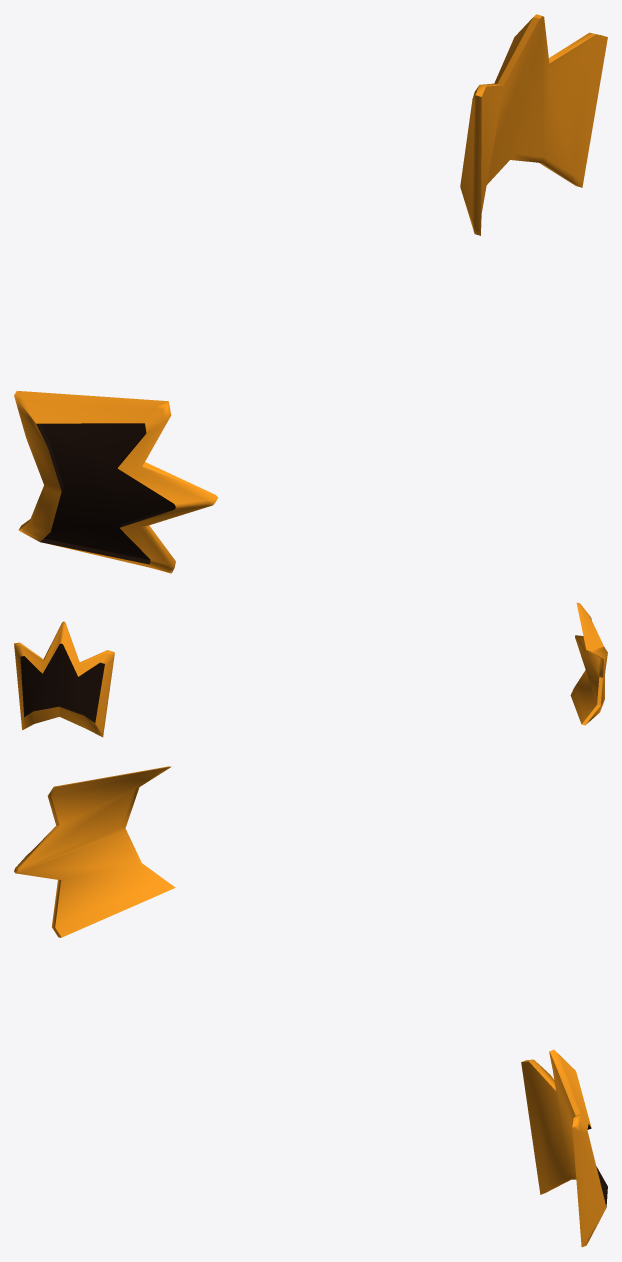
The picture shows the model from 3 angles, top to bottom: view 1: azimuth 30°, elevation 25°; view 2: azimuth 150°, elevation 25°; view 3: azimuth 270°, elevation 25°; orthographic projection. The views are drawn at different scales.
Visible parts, largest first — view 1: hand_decor_003.002, hand_decor_002.003; view 2: hand_decor_002.003, hand_decor_003.002; view 3: hand_decor_003.002, hand_decor_002.003.
Boxes of the visible parts, box(x1,y1,x2,y2) form: hand_decor_003.002: box(14, 391, 217, 573); hand_decor_002.003: box(460, 14, 607, 235); hand_decor_002.003: box(14, 621, 114, 737); hand_decor_003.002: box(570, 602, 607, 725); hand_decor_003.002: box(14, 766, 175, 937); hand_decor_002.003: box(521, 1049, 607, 1247).
Bounding box in the file's own units: 138 × 98.88 × 31.59.
